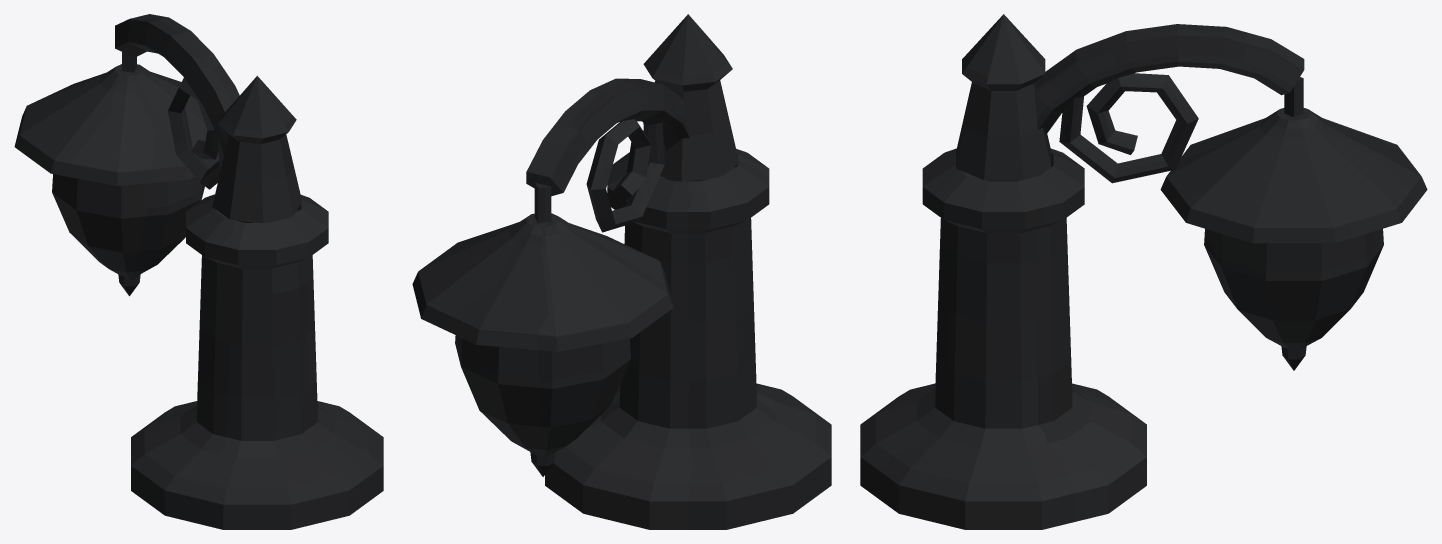
The model's file is decolight_lagenie_inv.obj.
3 views of the same model, side by side, from view 1: azimuth 30°, elevation 25°; view 2: azimuth 150°, elevation 25°; view 3: azimuth 270°, elevation 25° (orthographic). The views are drawn at different scales.
Parts seen in each view (by area): view 1: decolight_lagenie_inv; view 2: decolight_lagenie_inv; view 3: decolight_lagenie_inv.
Part boxes in pixels (x1,y1,x2,y2): decolight_lagenie_inv: (14, 14, 383, 529); decolight_lagenie_inv: (412, 14, 831, 529); decolight_lagenie_inv: (860, 14, 1427, 529).
Bounding box in the file's own units: 0.4928 × 0.8639 × 0.975.
